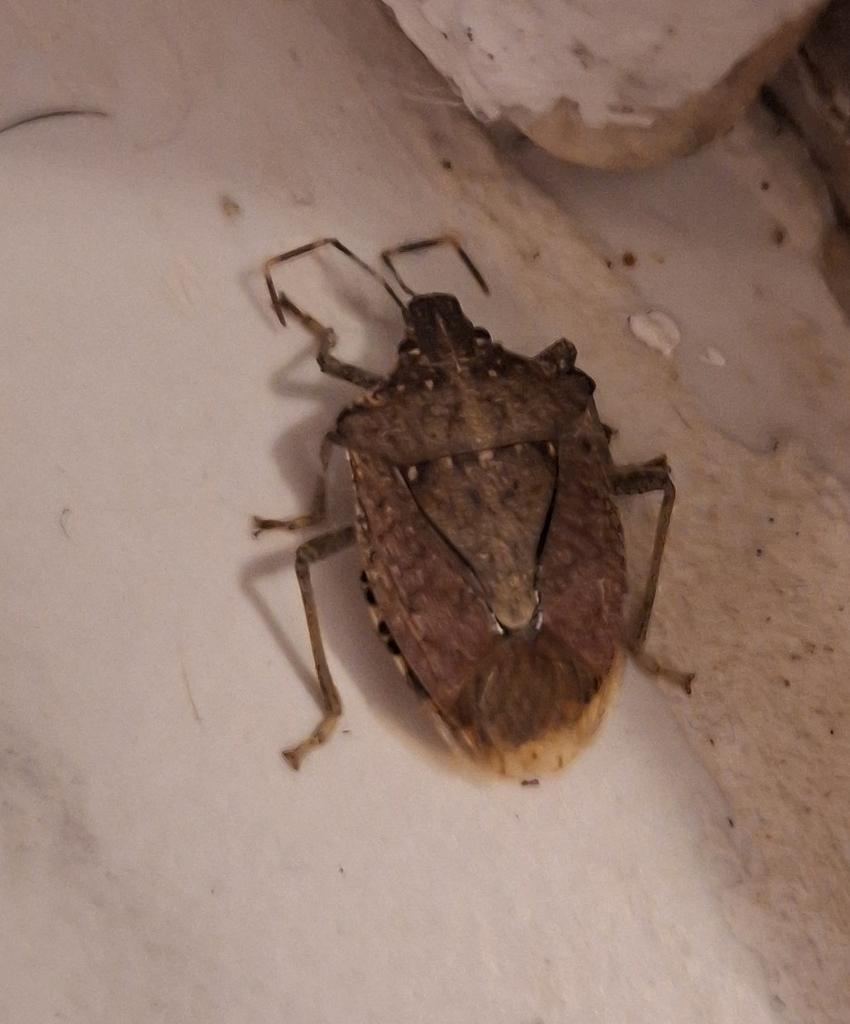stink_bugs: (142, 165, 814, 862)
